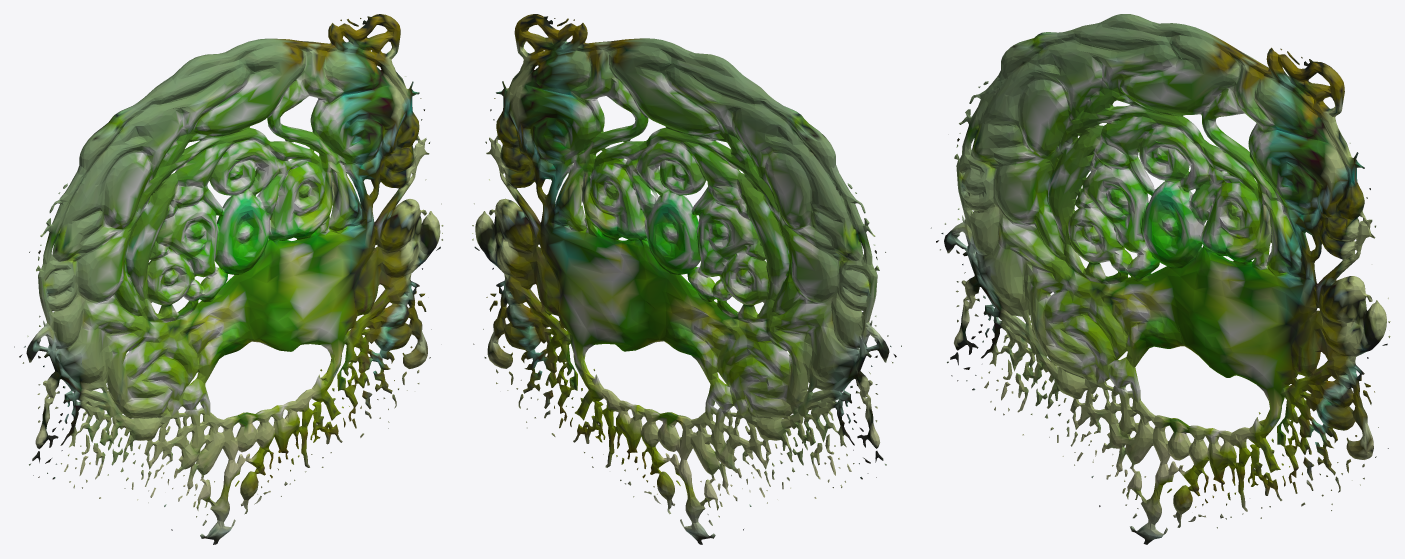
Rendered from windSpiritSummon.glb.
The picture shows the model from 3 angles, left to right: view 1: azimuth 30°, elevation 25°; view 2: azimuth 150°, elevation 25°; view 3: azimuth 330°, elevation 25°; orthographic projection. The views are drawn at different scales.
Visible parts, largest first — view 1: world; view 2: world; view 3: world.
Boxes of the visible parts, <box> form: world: <box>14,14,443,544</box>; world: <box>472,14,901,544</box>; world: <box>931,14,1390,544</box>.
Bounding box in the file's own units: 0.9074 × 1 × 0.0491.
